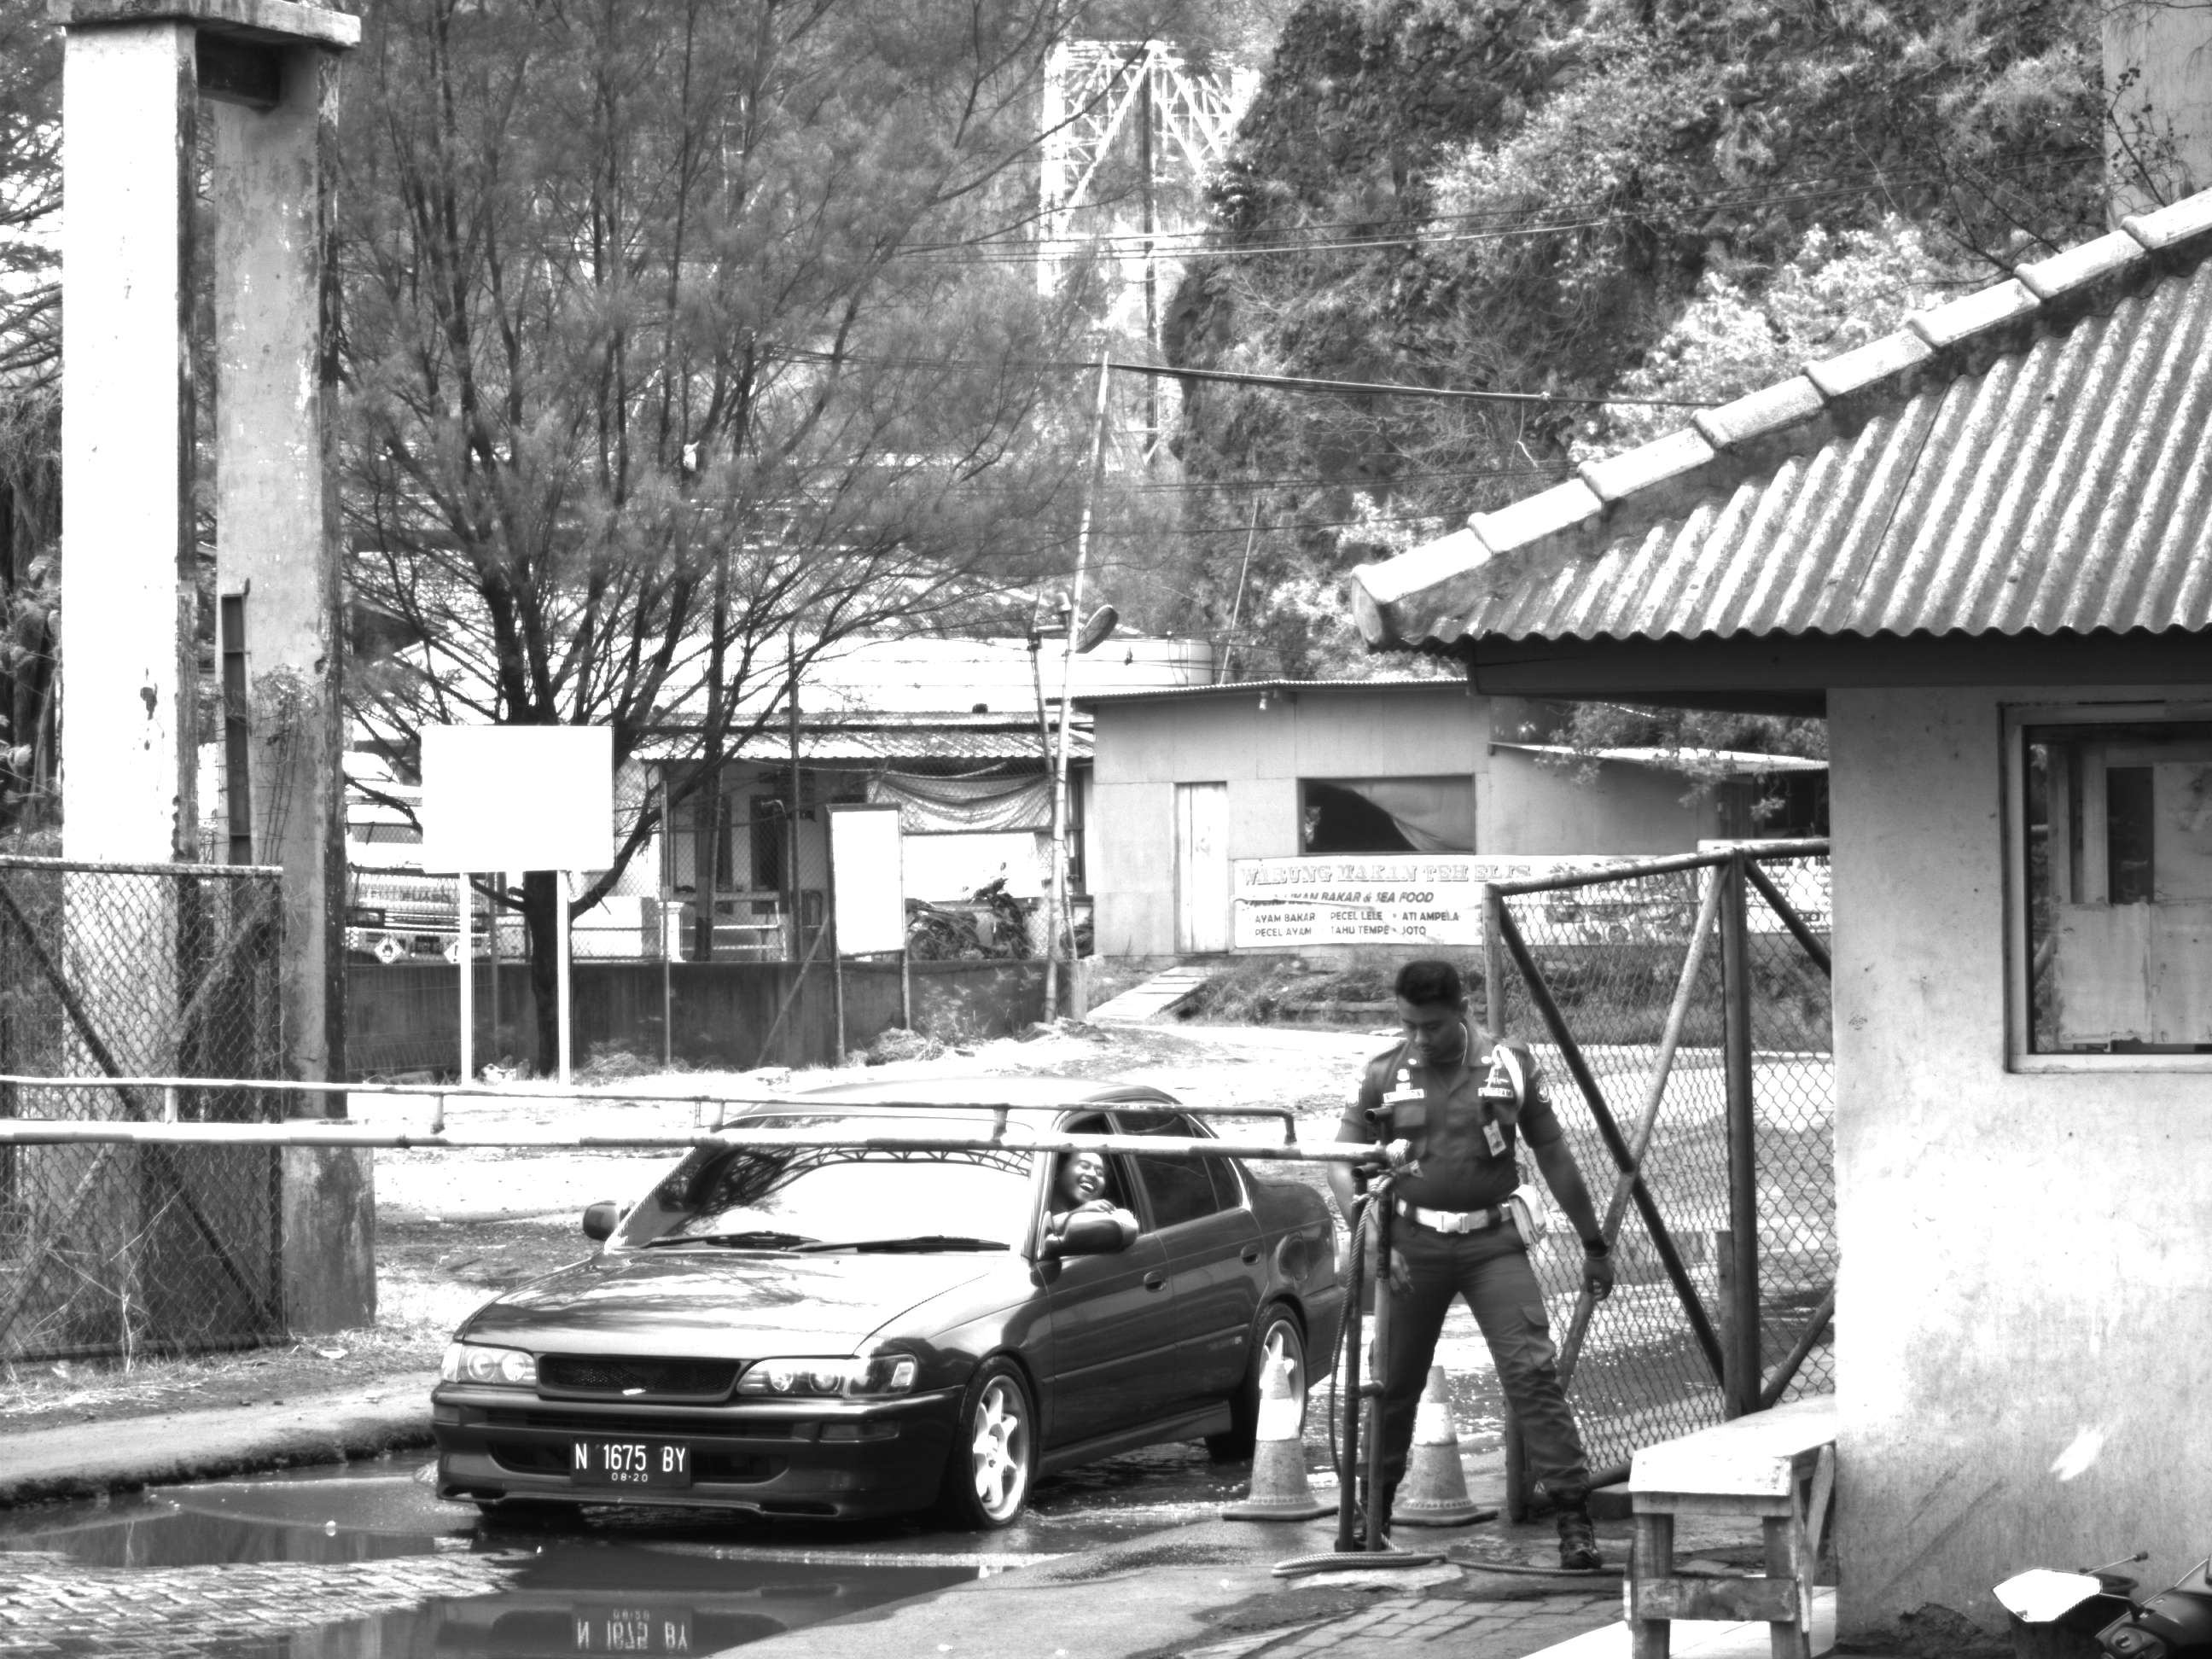day_small_rear: (425, 1078, 1055, 1536)
plate: (561, 1431, 694, 1495)
